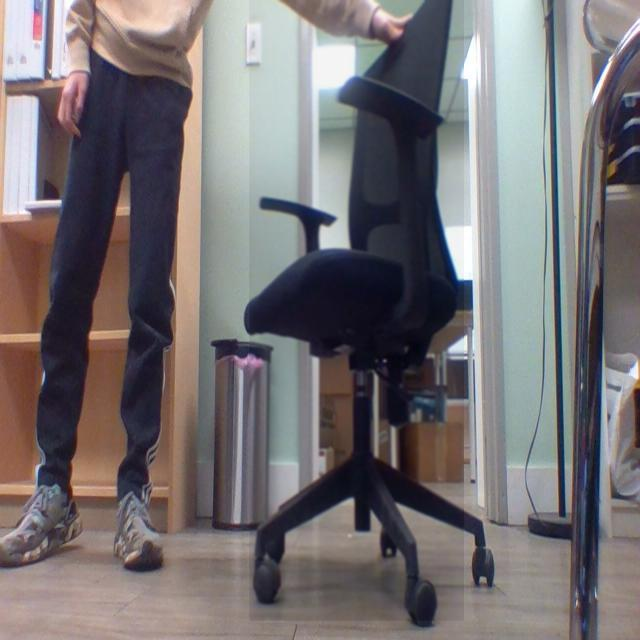chair: (234, 0, 501, 640)
